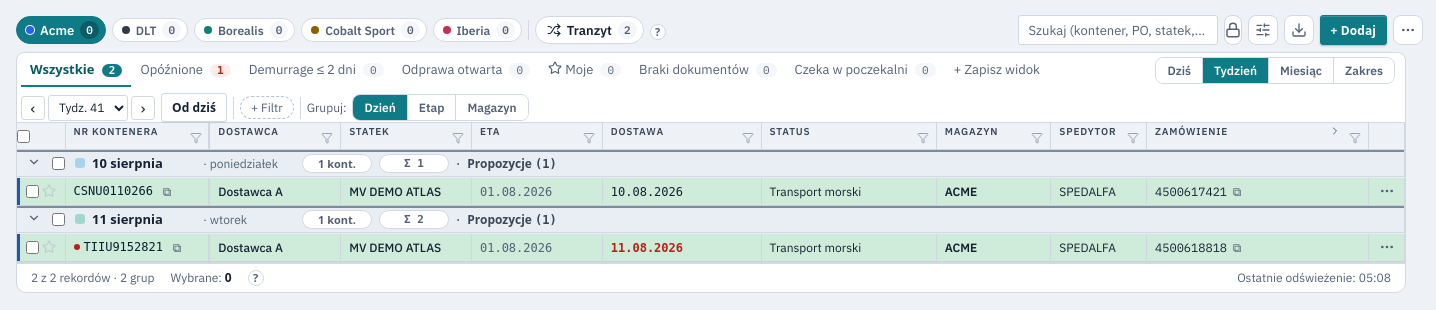
Test: kolejka — filtry widoczne › menu eksportu ma opcje „Bieżący widok" i „Cała kolejka" (decyzja 17)
Expected: the text "CSNU0110266" is shown, x1=74 y1=184 x2=153 y2=198
Click the button named "Eksport Excel". click: click(1298, 30)
box: x1=1284 y1=15 x2=1314 y2=45
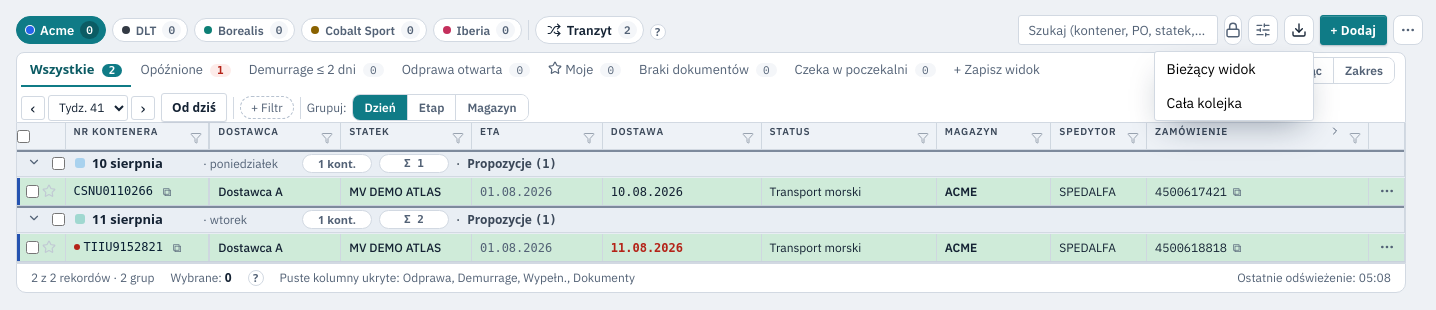
Now the element with class "export-menu" shows "Bieżący widok", box x1=1154 y1=52 x2=1312 y2=86
Now the element with class "export-menu" shows "Cała kolejka", box x1=1154 y1=86 x2=1312 y2=120
